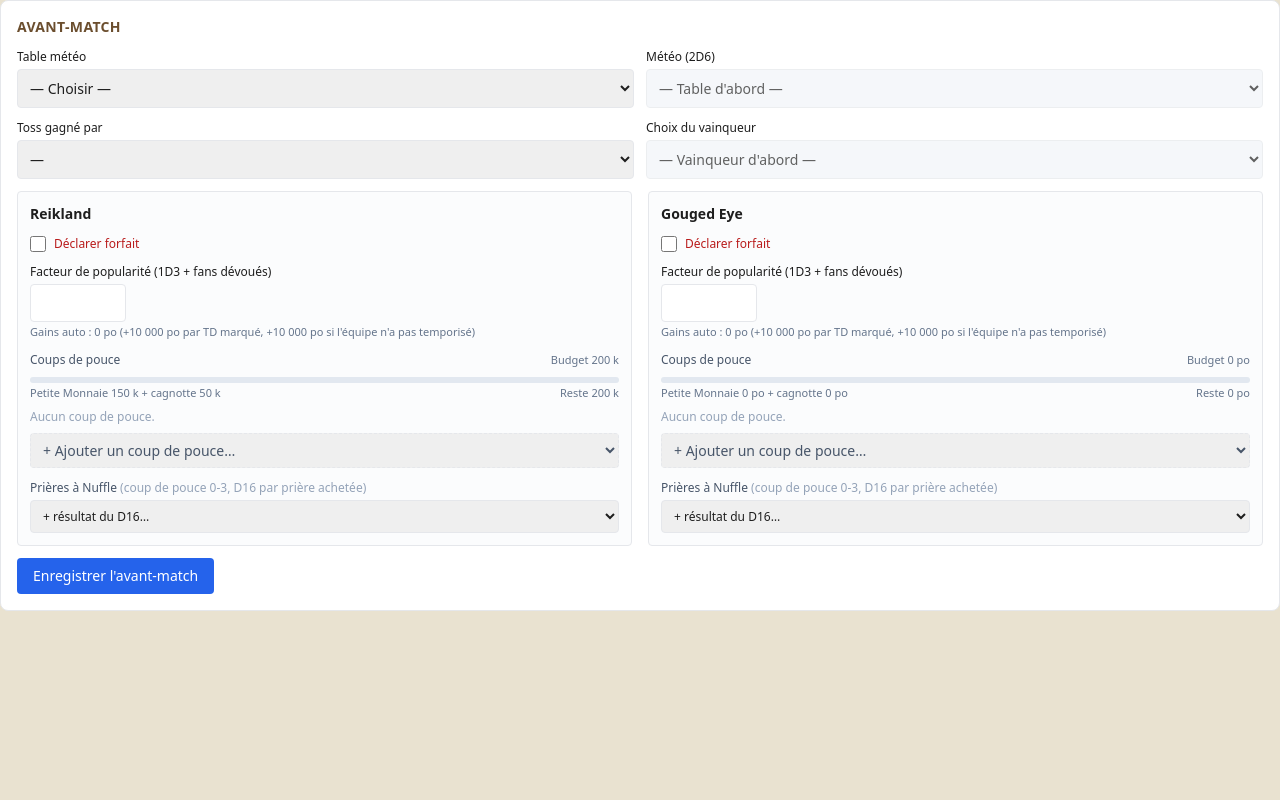
PreMatchPanel — météo dépendante de la table › propose les conditions de la table choisie et affiche la conséquence
expect the dropdown with test id "weather-select" is disabled: met, box [646, 69, 1263, 108]
Select "Classique" in the dropdown with test id "weather-table-select" at [326, 88], box [17, 69, 634, 108]
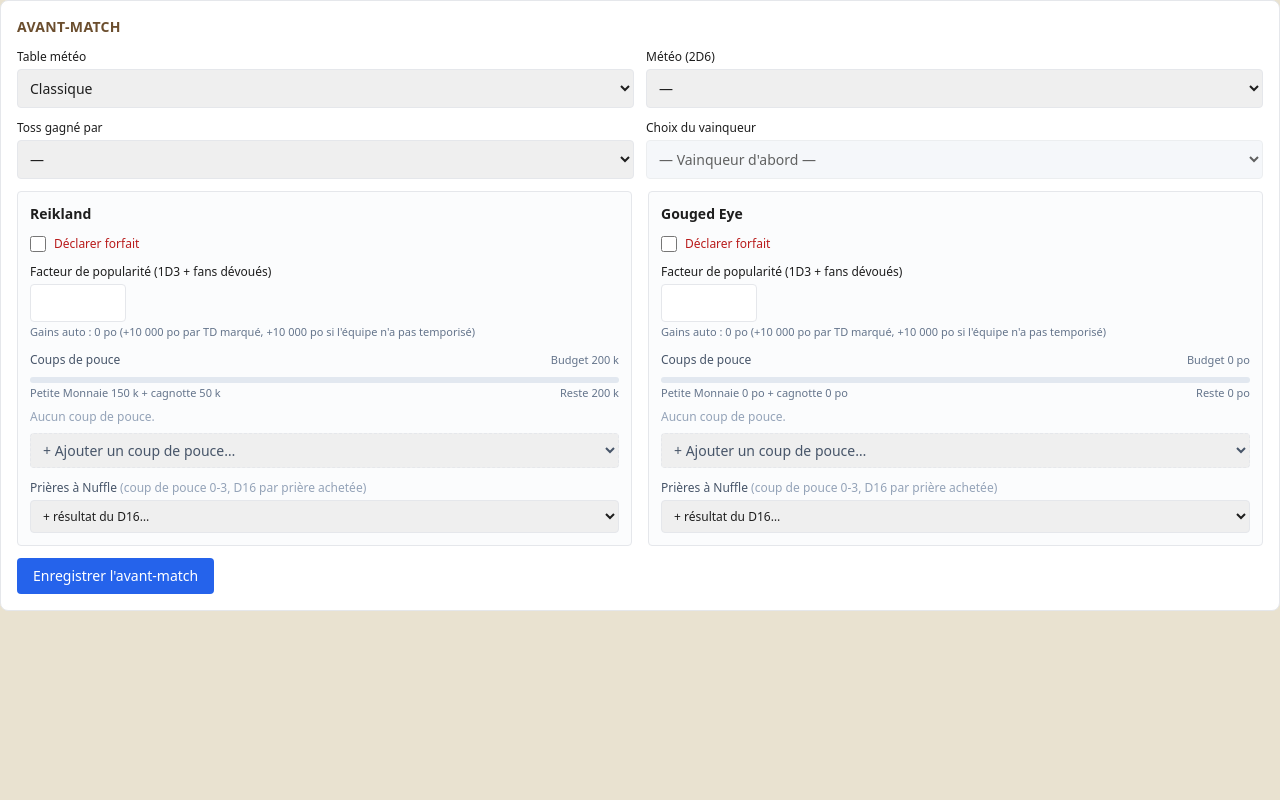
expect the dropdown with test id "weather-select" is enabled: met
Select "11 — Pluie battante" in the dropdown with test id "weather-select" at [954, 88], box [646, 69, 1263, 108]
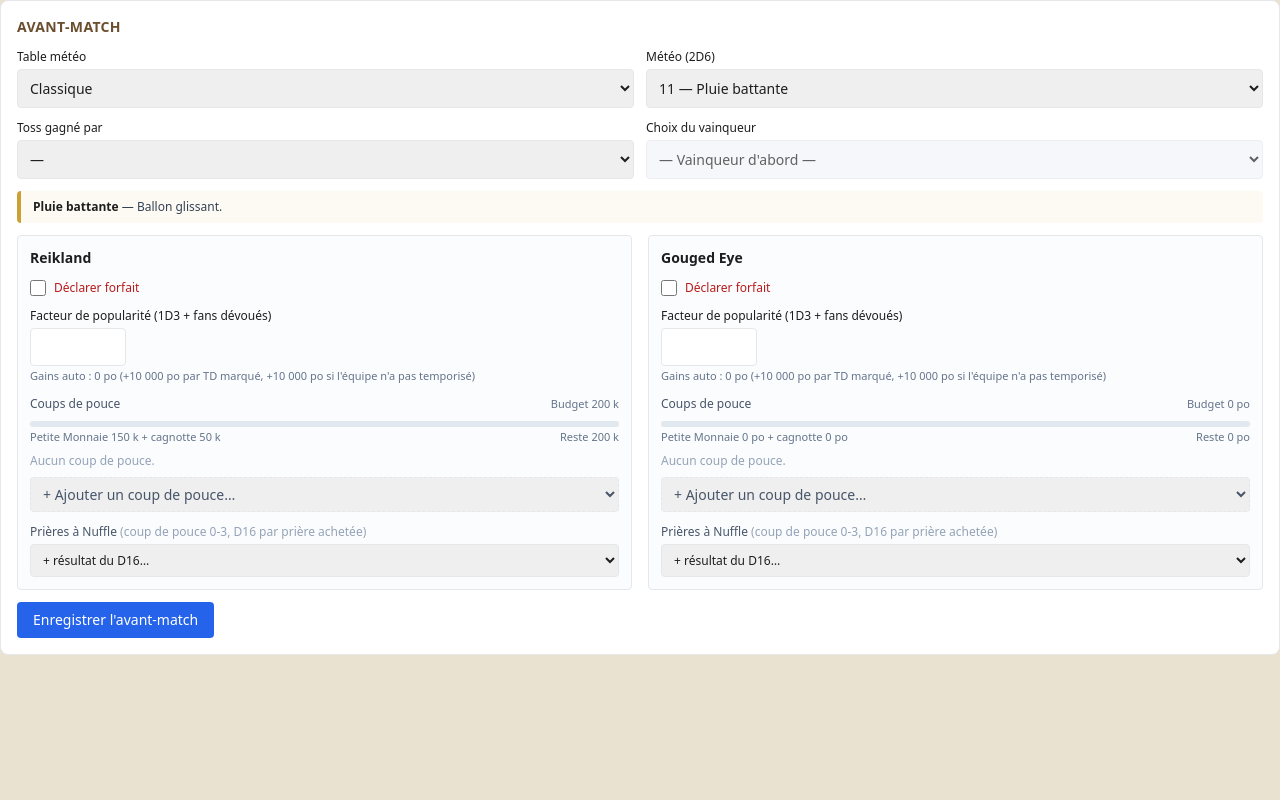
expect the element with test id "weather-consequence" shows "Pluie battante": met, box [33, 198, 119, 215]
expect the element with test id "weather-consequence" shows "Ballon glissant.": met, box [137, 198, 222, 215]
